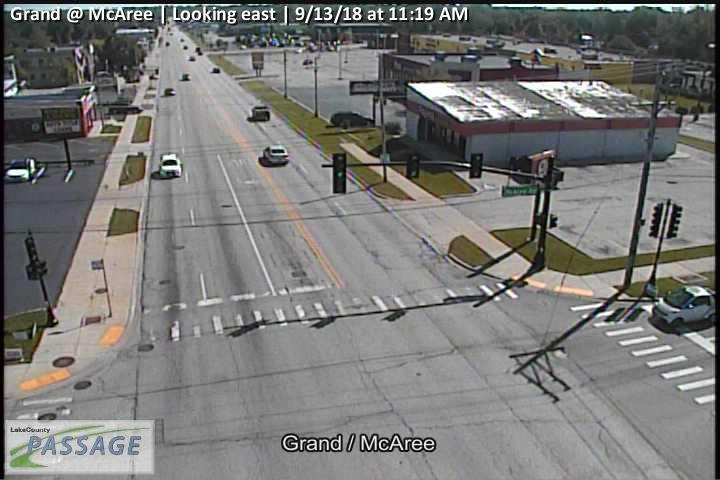Sedan: (650, 287, 720, 331), (5, 158, 36, 182), (157, 153, 181, 178), (263, 145, 290, 165)
